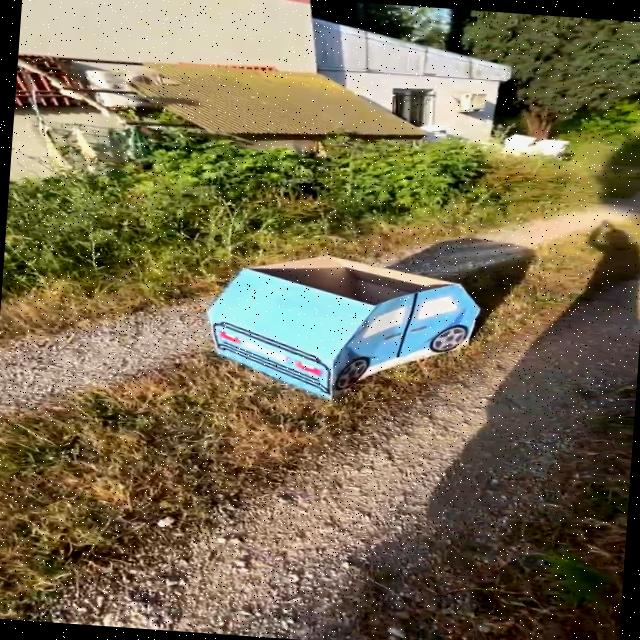blue_car: (149, 224, 542, 425)
